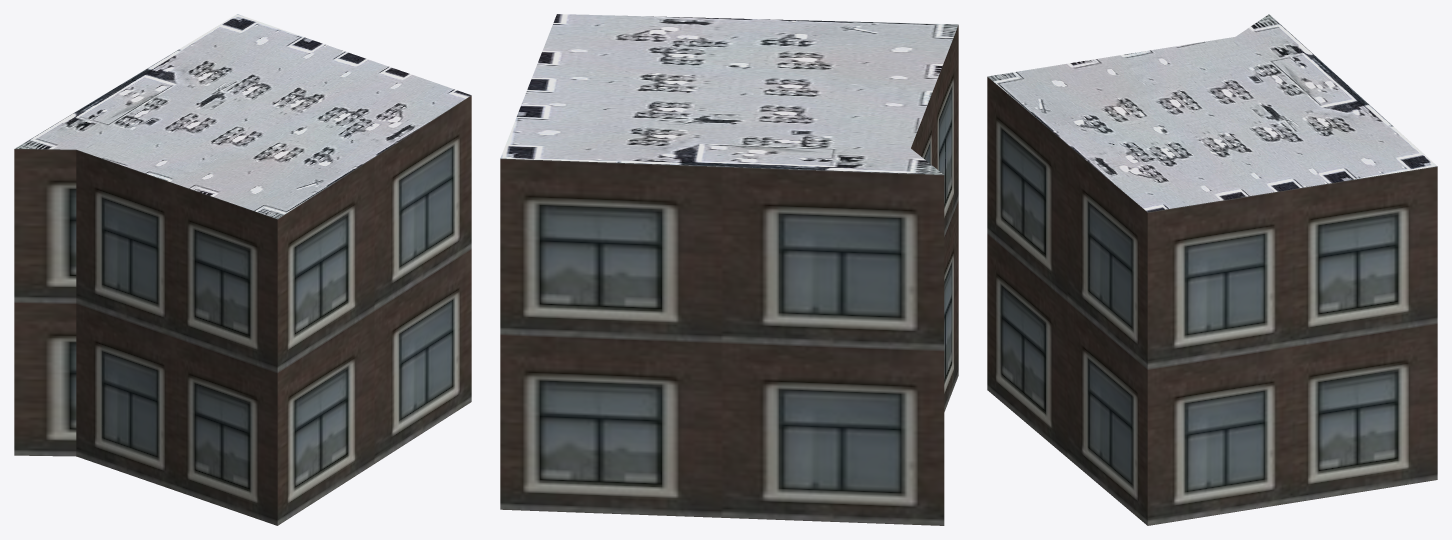
Rendered from ResTex__2831.fbx.
3 renders of one model, left to right at view 1: azimuth 30°, elevation 25°; view 2: azimuth 150°, elevation 25°; view 3: azimuth 270°, elevation 25°, orthographic. The views are drawn at different scales.
Visible parts, largest first — view 1: CityEngineMaterial_16_m, CityEngineMaterial_15_m; view 2: CityEngineMaterial_16_m, CityEngineMaterial_15_m; view 3: CityEngineMaterial_16_m, CityEngineMaterial_15_m.
Part boxes in pixels (bbox=[...]): CityEngineMaterial_16_m: bbox=[14, 95, 471, 525]; CityEngineMaterial_15_m: bbox=[14, 14, 471, 218]; CityEngineMaterial_16_m: bbox=[500, 25, 958, 525]; CityEngineMaterial_15_m: bbox=[500, 14, 958, 174]; CityEngineMaterial_16_m: bbox=[987, 77, 1437, 525]; CityEngineMaterial_15_m: bbox=[987, 14, 1436, 212].
Size of the model in its own units: 8.14 by 6 by 7.81.
2 materials, 2 textured.
